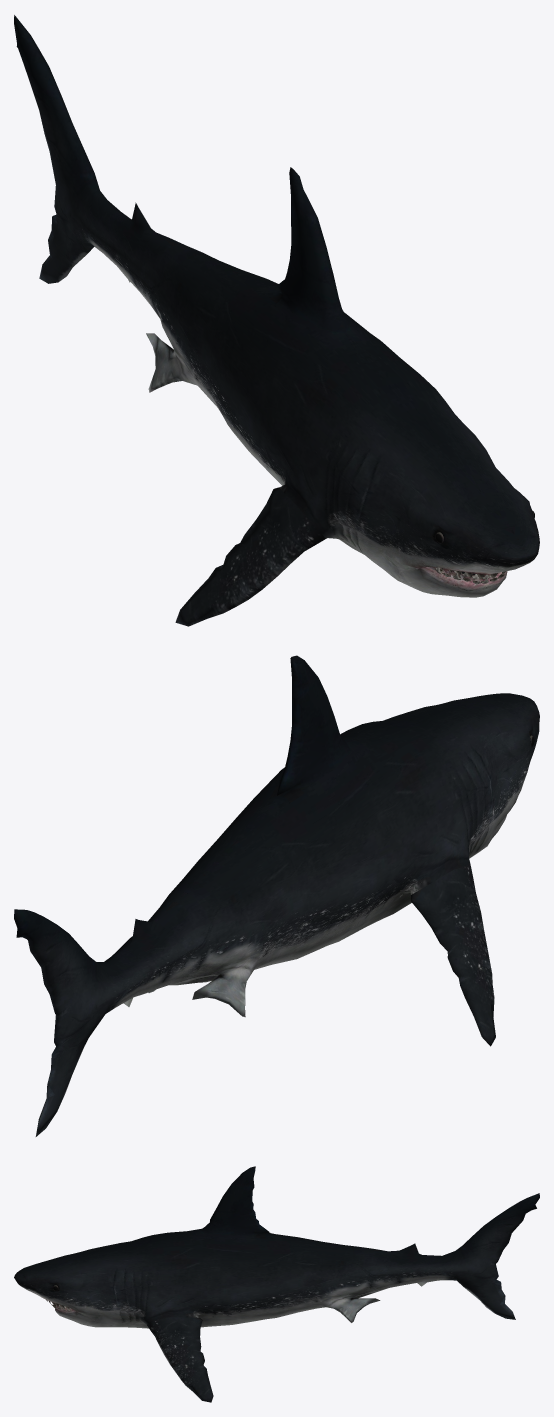
The picture shows the model from 3 angles, top to bottom: view 1: azimuth 30°, elevation 25°; view 2: azimuth 150°, elevation 25°; view 3: azimuth 270°, elevation 25°; orthographic projection. The views are drawn at different scales.
Parts seen in each view (by area): view 1: Object_7; view 2: Object_7; view 3: Object_7.
Boxes of the visible parts, <box> form: Object_7: <box>14,15,539,626</box>; Object_7: <box>14,655,539,1136</box>; Object_7: <box>14,1166,539,1402</box>.
Bounding box in the file's own units: 1.35 × 1.57 × 3.8.
Materials: 3 (3 with a texture image).
